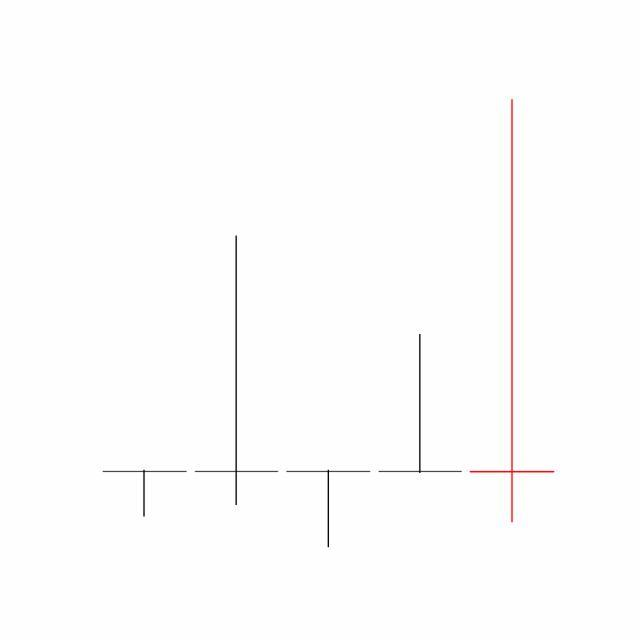Gravestone Doji: (374, 333, 468, 475)
